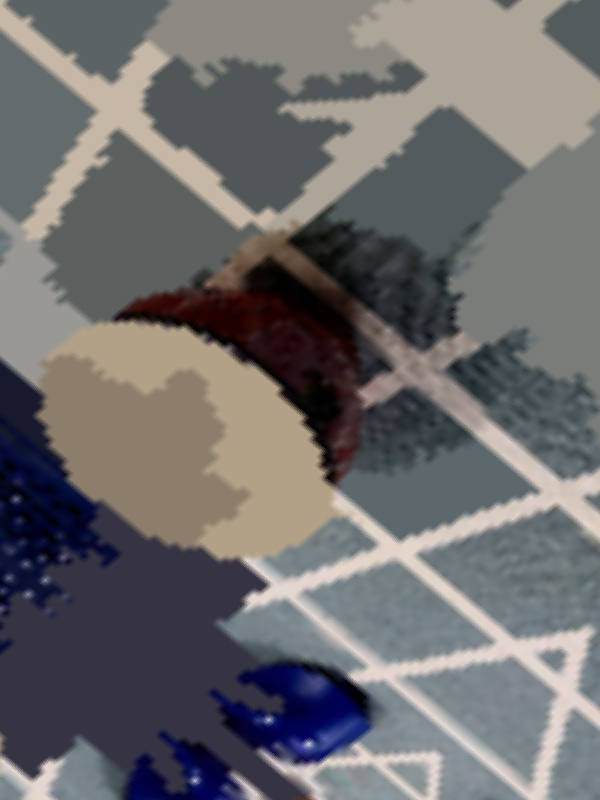bowl_small: (0, 199, 471, 618)
